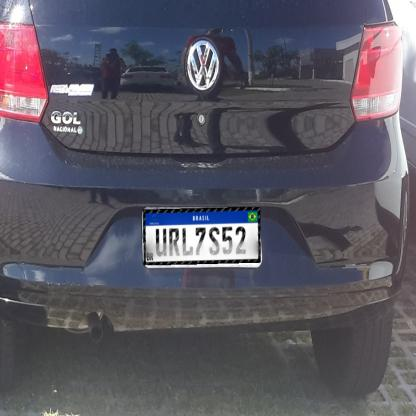PlacaM: (143, 207, 261, 265)
